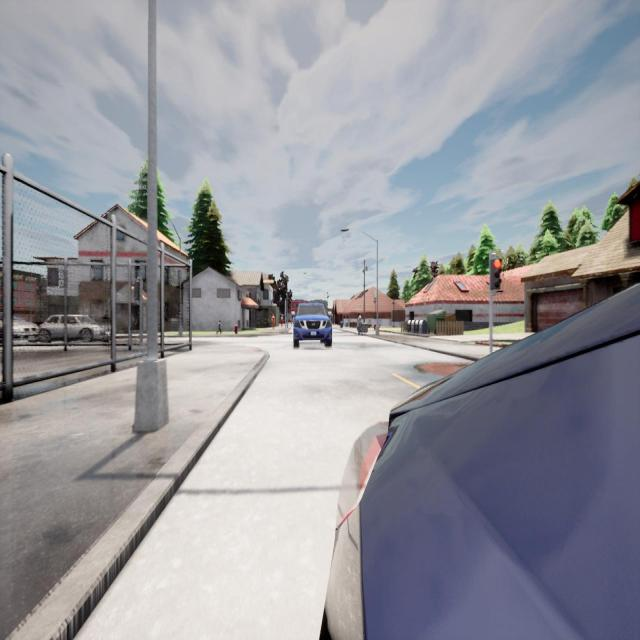Pedestrian: (357, 312, 362, 334), (216, 320, 222, 335), (271, 314, 275, 329), (281, 314, 283, 326)
Vehicle: (326, 284, 640, 638), (294, 302, 332, 347), (41, 316, 104, 342), (0, 315, 37, 342)
traffic_light: (491, 259, 501, 290), (134, 281, 140, 301)
